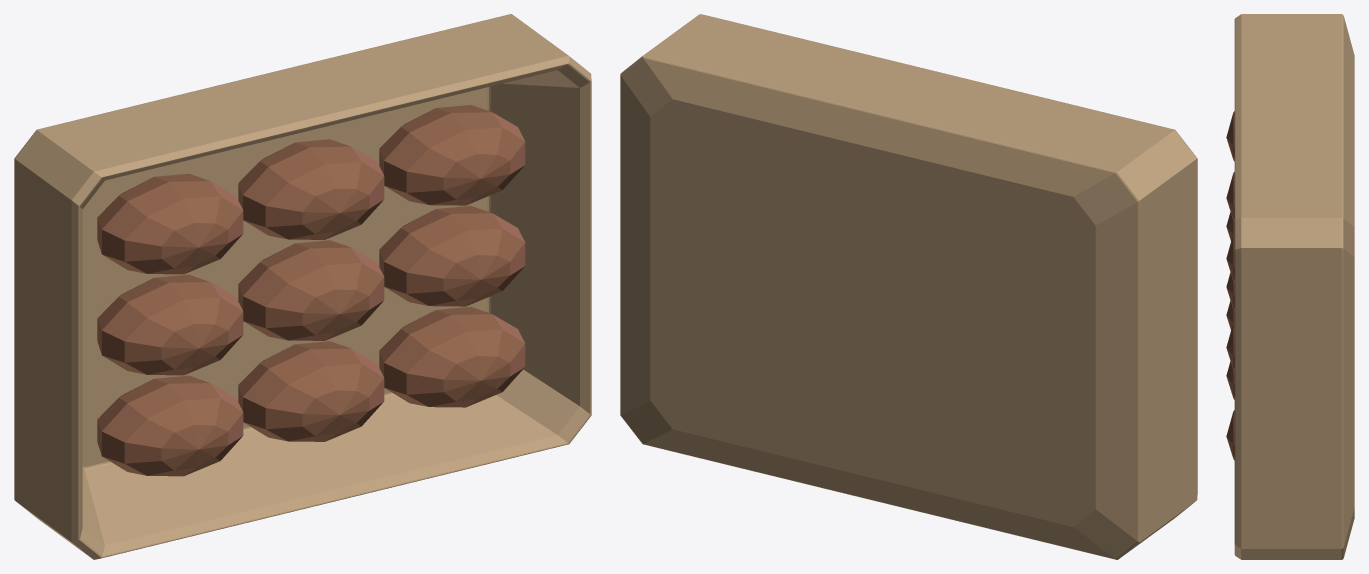
The model's file is dates.glb.
3 views of the same model, side by side, from view 1: azimuth 30°, elevation 25°; view 2: azimuth 150°, elevation 25°; view 3: azimuth 270°, elevation 25° (orthographic). The views are drawn at different scales.
Visible parts, largest first — view 1: dates; view 2: dates; view 3: dates.
Boxes of the visible parts, left/top/right/bottom form: dates: left=14, top=14, right=591, bottom=559; dates: left=620, top=14, right=1197, bottom=559; dates: left=1226, top=14, right=1354, bottom=559.
Bounding box in the file's own units: 0.14 × 0.1 × 0.034.
